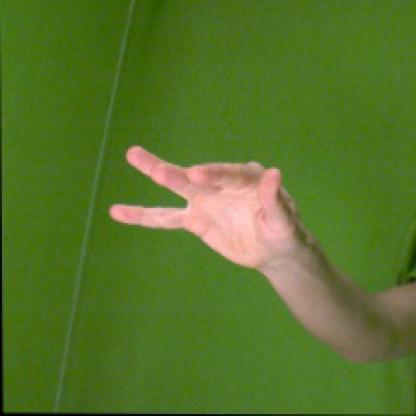Hand: (108, 146, 301, 272)
